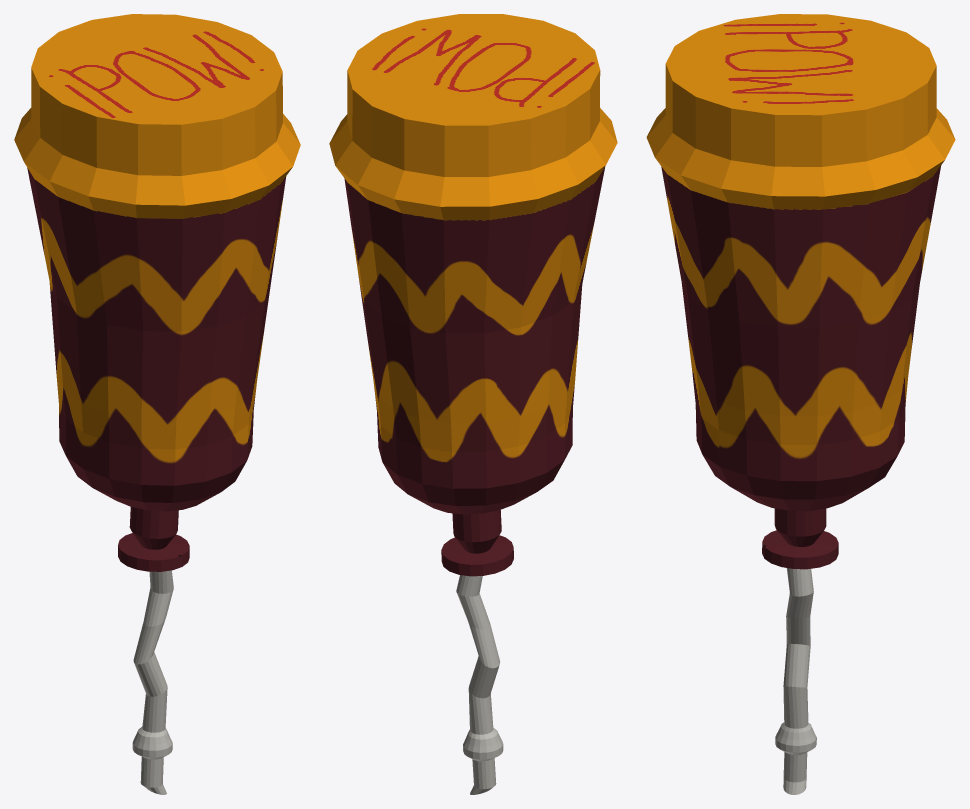
The model's file is party_popper.fbx.
The picture shows the model from 3 angles, left to right: view 1: azimuth 30°, elevation 25°; view 2: azimuth 150°, elevation 25°; view 3: azimuth 270°, elevation 25°; orthographic projection.
Parts seen in each view (by area): view 1: geo_party_popper; view 2: geo_party_popper; view 3: geo_party_popper.
Part boxes in pixels (x1,y1,x2,y2): geo_party_popper: (14,14,300,794); geo_party_popper: (329,14,617,794); geo_party_popper: (646,14,955,794).
Size of the model in its own units: 0.1399 by 0.1549 by 0.4032.
1 material, 1 textured.
